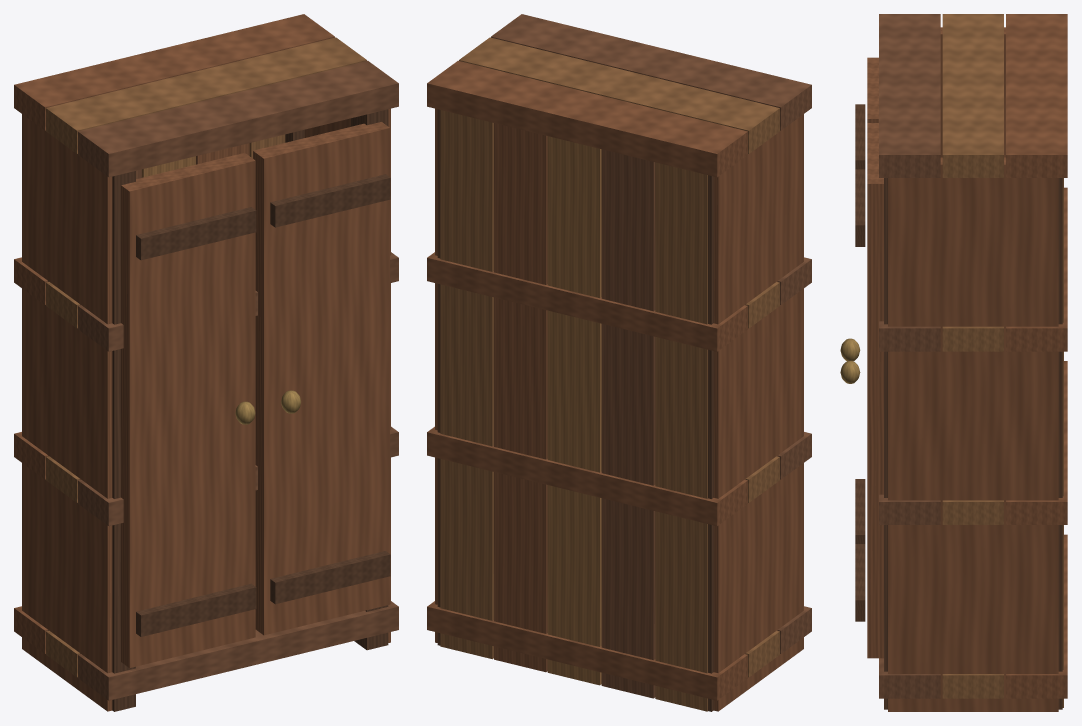
File: cupboard.glb
3 views of the same model, side by side, from view 1: azimuth 30°, elevation 25°; view 2: azimuth 150°, elevation 25°; view 3: azimuth 270°, elevation 25° (orthographic).
Visible parts, largest first — view 1: cupboard; view 2: cupboard; view 3: cupboard.
Part boxes in pixels (left/top/right/bottom): cupboard: left=14, top=14, right=398, bottom=711; cupboard: left=427, top=14, right=811, bottom=711; cupboard: left=840, top=14, right=1067, bottom=711.
Bounding box in the file's own units: 1 × 1.85 × 0.6815.
1 material, 1 textured.
